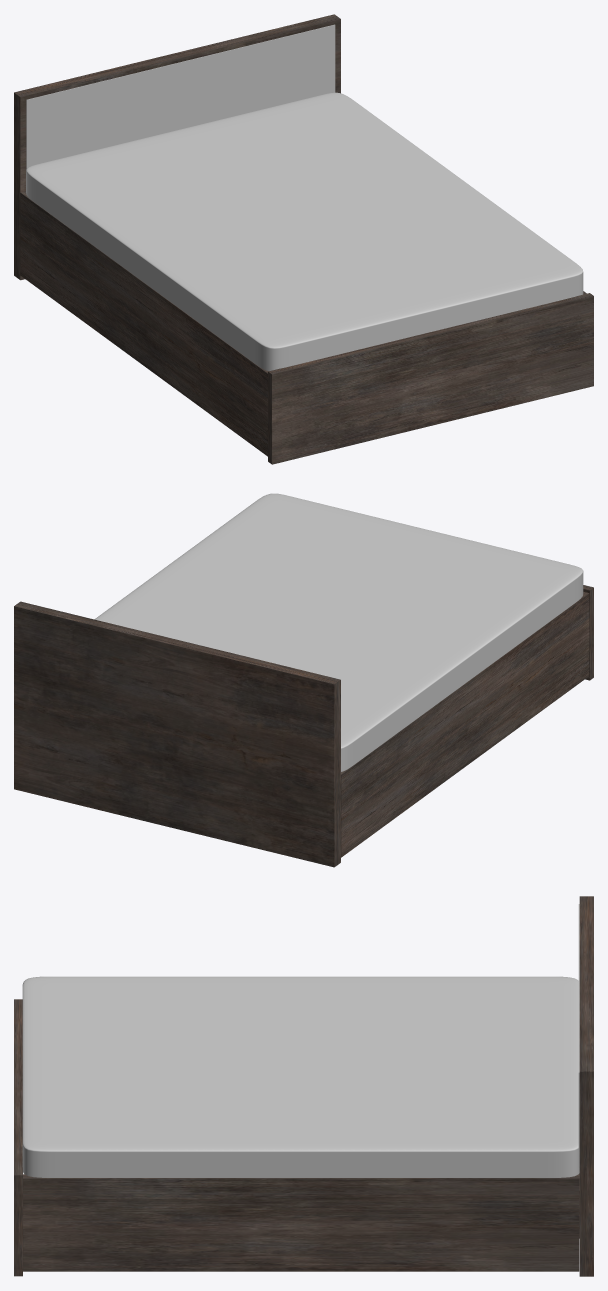
Rendered from AMELI.obj.
3 views of the same model, one above another, from view 1: azimuth 30°, elevation 25°; view 2: azimuth 150°, elevation 25°; view 3: azimuth 270°, elevation 25° (orthographic). The views are drawn at different scales.
Parts seen in each view (by area): view 1: Cube.003_Cube.004, Cube.001_Cube.002, Cube.006_Cube, Cube.005_Cube.006, Cube_Cube.001; view 2: Cube.003_Cube.004, Cube_Cube.001, Cube.005_Cube.006, Cube.001_Cube.002; view 3: Cube.003_Cube.004, Cube.004_Cube.005, Cube_Cube.001, Cube.001_Cube.002, Cube.006_Cube.
Part boxes in pixels (x1,y1,x2,y2): Cube.003_Cube.004: [26, 92, 583, 371]; Cube.001_Cube.002: [268, 293, 593, 464]; Cube.006_Cube: [26, 24, 335, 168]; Cube.005_Cube.006: [20, 191, 267, 456]; Cube_Cube.001: [14, 14, 340, 280]; Cube.003_Cube.004: [94, 493, 583, 771]; Cube_Cube.001: [14, 601, 340, 867]; Cube.005_Cube.006: [341, 592, 589, 857]; Cube.001_Cube.002: [583, 585, 593, 680]; Cube.003_Cube.004: [22, 976, 579, 1177]; Cube.004_Cube.005: [23, 1174, 579, 1271]; Cube_Cube.001: [579, 896, 593, 1276]; Cube.001_Cube.002: [14, 999, 22, 1276]; Cube.006_Cube: [578, 904, 579, 1167].
Bounding box in the file's own units: 2.99 × 1.62 × 4.16.
